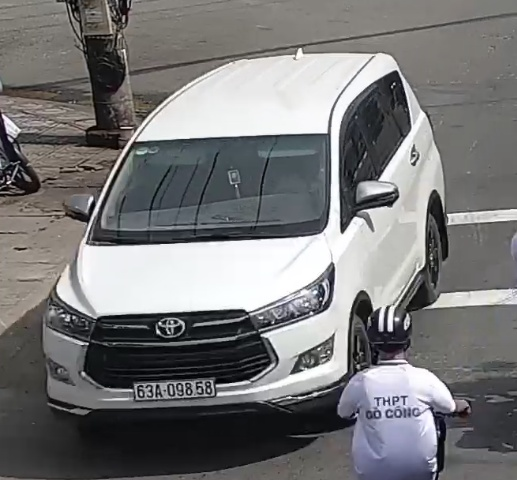vehicle plate: (128, 375, 224, 402)
